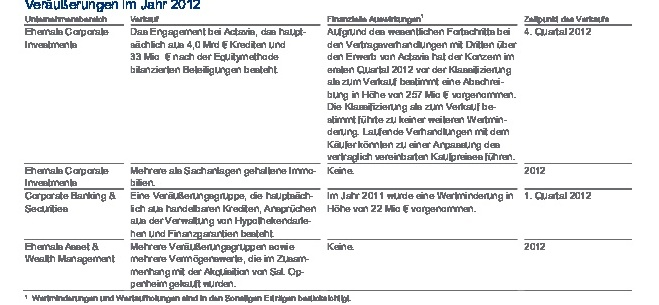table: (0, 0, 659, 305)
